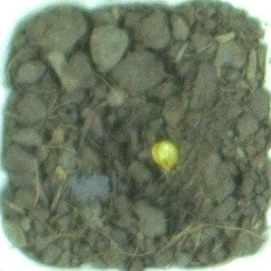chilli seed: (149, 139, 183, 173)
